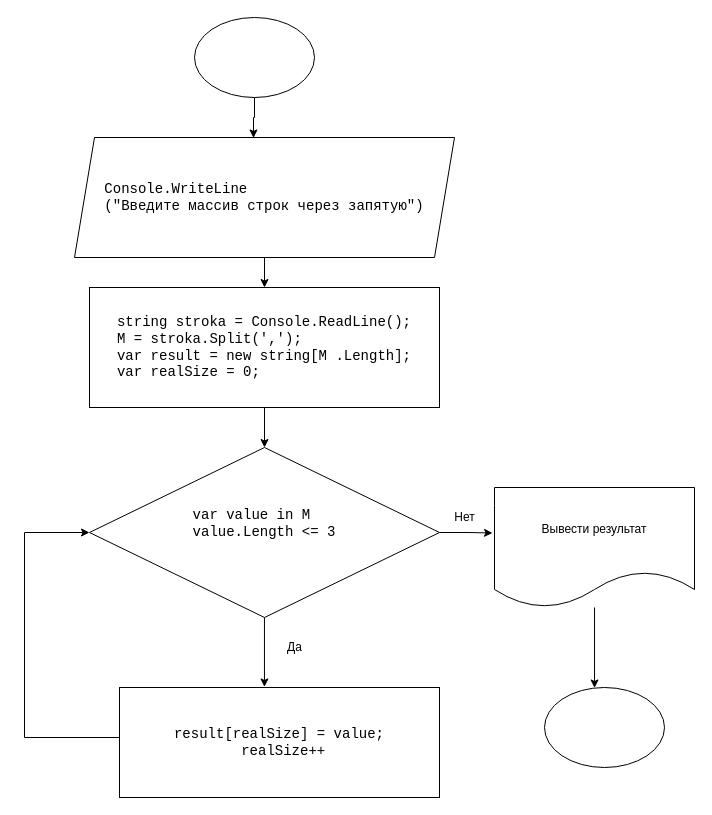
This 712x815 diagram has some shape labels left out. The shapes that lost their labels are listed below. From the top down, each one's centre as x and y in pixels, then its label:
the point at 254,57: start
the point at 604,727: End
